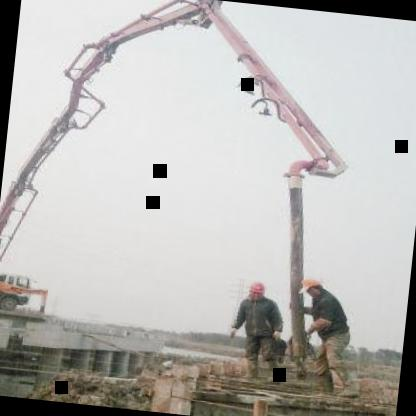helmet: (296, 274, 323, 300), (245, 280, 270, 303)
